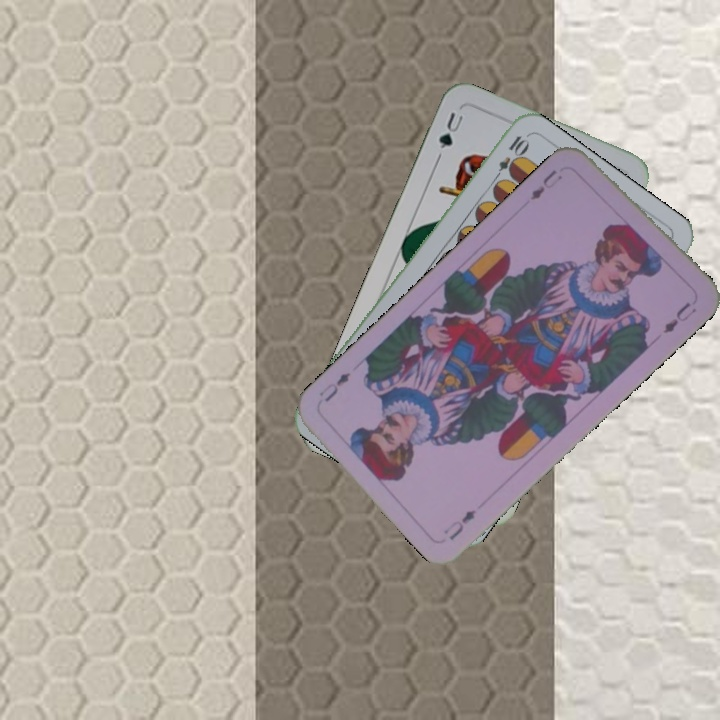E10: (488, 131, 530, 186)
EU: (526, 165, 565, 203), (440, 505, 479, 543)
GU: (433, 108, 466, 161)
